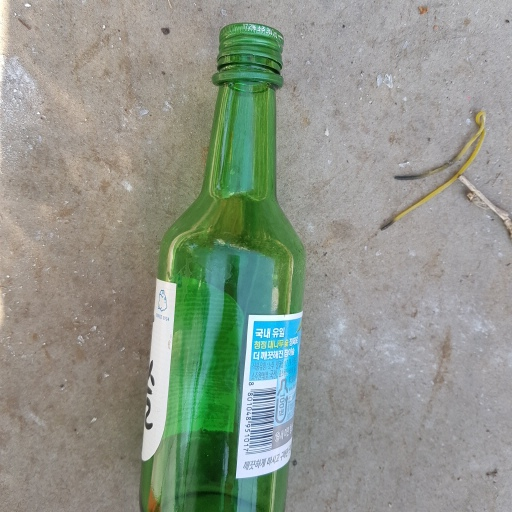Glass_0: (133, 21, 309, 512)
